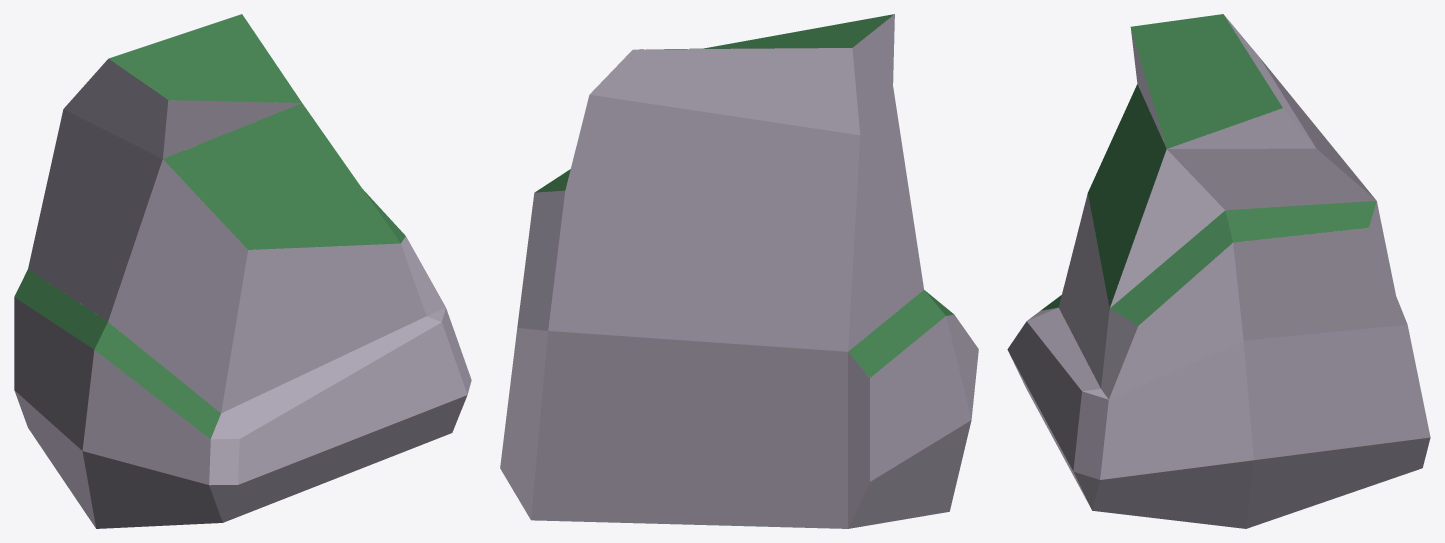
File: Rock_Moss_2-optimized.glb
3 renders of one model, left to right at view 1: azimuth 30°, elevation 25°; view 2: azimuth 150°, elevation 25°; view 3: azimuth 270°, elevation 25°, orthographic. The views are drawn at different scales.
Parts seen in each view (by area): view 1: Rock_Moss_2; view 2: Rock_Moss_2; view 3: Rock_Moss_2.
Part boxes in pixels (bbox=[...]): Rock_Moss_2: bbox=[14, 14, 471, 528]; Rock_Moss_2: bbox=[500, 14, 978, 528]; Rock_Moss_2: bbox=[1007, 14, 1430, 528].
Bounding box in the file's own units: 0.6125 × 0.6918 × 0.6504.
